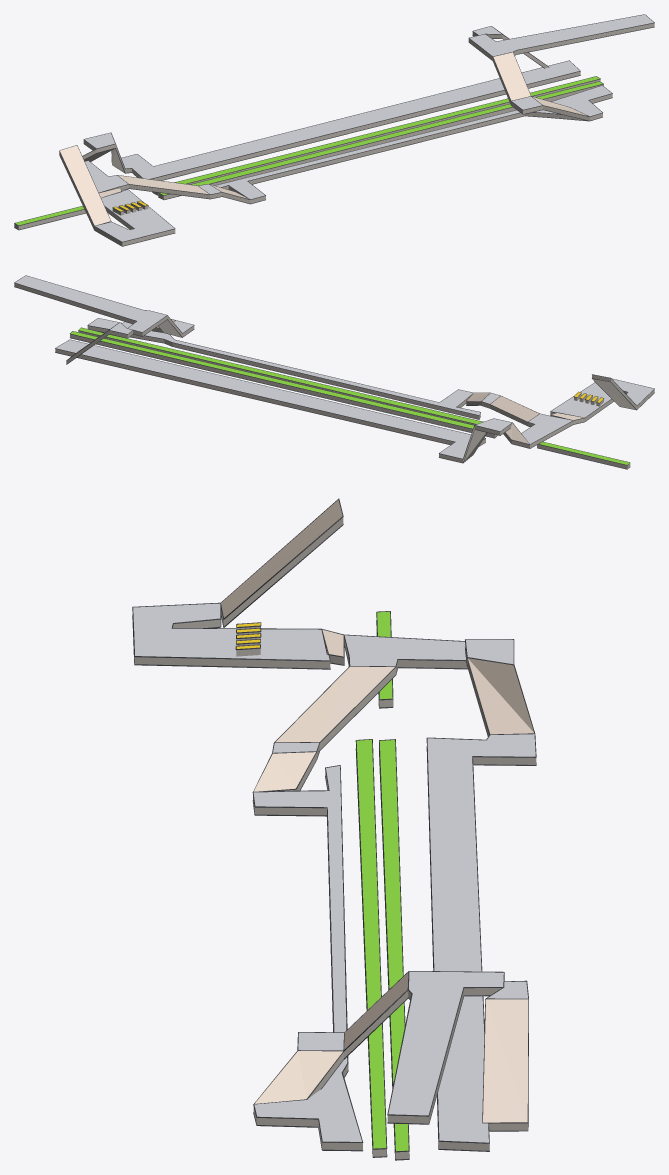
File: acacias_esquema_trazado.glb
3 views of the same model, one above another, from view 1: azimuth 30°, elevation 25°; view 2: azimuth 150°, elevation 25°; view 3: azimuth 270°, elevation 25° (orthographic). The views are drawn at different scales.
Visible parts, largest first — view 1: 01 Anden fondo con retorno oeste, 02 Anden frente con muescas en ambos extremos, 04 Simbolo verde L5 frente, 19 Paso superior este y arranque pasillo Embajadores, 03 Simbolo verde L5 fondo, 06 Vestibulo con entrante de acceso, 07 Acceso inclinado a superficie, 18 Cruce elevado este sobre vias, 01 Anden fondo con retorno oeste contorno, 13 Bajada larga oeste al rellano intermedio, 02 Anden frente con muescas en ambos extremos contorno, 03 Simbolo verde L5 fondo contorno (+9 smaller); view 2: 01 Anden fondo con retorno oeste, 02 Anden frente con muescas en ambos extremos, 03 Simbolo verde L5 fondo, 19 Paso superior este y arranque pasillo Embajadores, 04 Simbolo verde L5 frente, 06 Vestibulo con entrante de acceso, 09 Distribuidor oeste en L, 01 Anden fondo con retorno oeste contorno, 03 Simbolo verde L5 fondo contorno, 04 Simbolo verde L5 frente contorno, 02 Anden frente con muescas en ambos extremos contorno, 05 Continuacion simbolica L5 oeste (+8 smaller); view 3: 01 Anden fondo con retorno oeste, 02 Anden frente con muescas en ambos extremos, 06 Vestibulo con entrante de acceso, 19 Paso superior este y arranque pasillo Embajadores, 04 Simbolo verde L5 frente, 21 Bajada posterior este al anden fondo, 03 Simbolo verde L5 fondo, 13 Bajada larga oeste al rellano intermedio, 12 Bajada oeste al anden fondo, 09 Distribuidor oeste en L, 07 Acceso inclinado a superficie, 17 Bajada este al anden frente (+7 smaller).
Boxes of the visible parts, bbox=[...] form: 01 Anden fondo con retorno oeste: bbox=[121, 61, 580, 180]; 02 Anden frente con muescas en ambos extremos: bbox=[215, 85, 612, 203]; 04 Simbolo verde L5 frente: bbox=[158, 81, 603, 199]; 19 Paso superior este y arranque pasillo Embajadores: bbox=[468, 14, 654, 60]; 03 Simbolo verde L5 fondo: bbox=[152, 76, 600, 194]; 06 Vestibulo con entrante de acceso: bbox=[94, 190, 175, 245]; 07 Acceso inclinado a superficie: bbox=[59, 145, 110, 229]; 18 Cruce elevado este sobre vias: bbox=[493, 52, 530, 104]; 01 Anden fondo con retorno oeste contorno: bbox=[121, 60, 580, 179]; 13 Bajada larga oeste al rellano intermedio: bbox=[118, 175, 210, 198]; 02 Anden frente con muescas en ambos extremos contorno: bbox=[215, 85, 612, 199]; 03 Simbolo verde L5 fondo contorno: bbox=[174, 76, 600, 183]; 01 Anden fondo con retorno oeste: bbox=[55, 340, 485, 462]; 02 Anden frente con muescas en ambos extremos: bbox=[87, 318, 480, 419]; 03 Simbolo verde L5 fondo: bbox=[70, 331, 496, 437]; 19 Paso superior este y arranque pasillo Embajadores: bbox=[14, 276, 167, 336]; 04 Simbolo verde L5 frente: bbox=[78, 328, 482, 424]; 06 Vestibulo con entrante de acceso: bbox=[550, 379, 654, 421]; 09 Distribuidor oeste en L: bbox=[511, 414, 573, 448]; 01 Anden fondo con retorno oeste contorno: bbox=[55, 339, 485, 459]; 03 Simbolo verde L5 fondo contorno: bbox=[70, 331, 474, 429]; 04 Simbolo verde L5 frente contorno: bbox=[78, 327, 483, 424]; 02 Anden frente con muescas en ambos extremos contorno: bbox=[87, 318, 480, 415]; 05 Continuacion simbolica L5 oeste: bbox=[537, 442, 630, 468]; 01 Anden fondo con retorno oeste: bbox=[427, 734, 536, 1150]; 02 Anden frente con muescas en ambos extremos: bbox=[253, 766, 362, 1150]; 06 Vestibulo con entrante de acceso: bbox=[133, 603, 330, 668]; 19 Paso superior este y arranque pasillo Embajadores: bbox=[387, 971, 503, 1123]; 04 Simbolo verde L5 frente: bbox=[356, 739, 386, 1156]; 21 Bajada posterior este al anden fondo: bbox=[483, 999, 528, 1130]; 03 Simbolo verde L5 fondo: bbox=[379, 740, 409, 1159]; 13 Bajada larga oeste al rellano intermedio: bbox=[275, 666, 395, 749]; 12 Bajada oeste al anden fondo: bbox=[467, 658, 533, 735]; 09 Distribuidor oeste en L: bbox=[344, 635, 467, 673]; 07 Acceso inclinado a superficie: bbox=[221, 499, 343, 626]; 17 Bajada este al anden frente: bbox=[255, 1051, 343, 1103].
Size of the model in its own units: 100 by 11.95 by 29.1.
